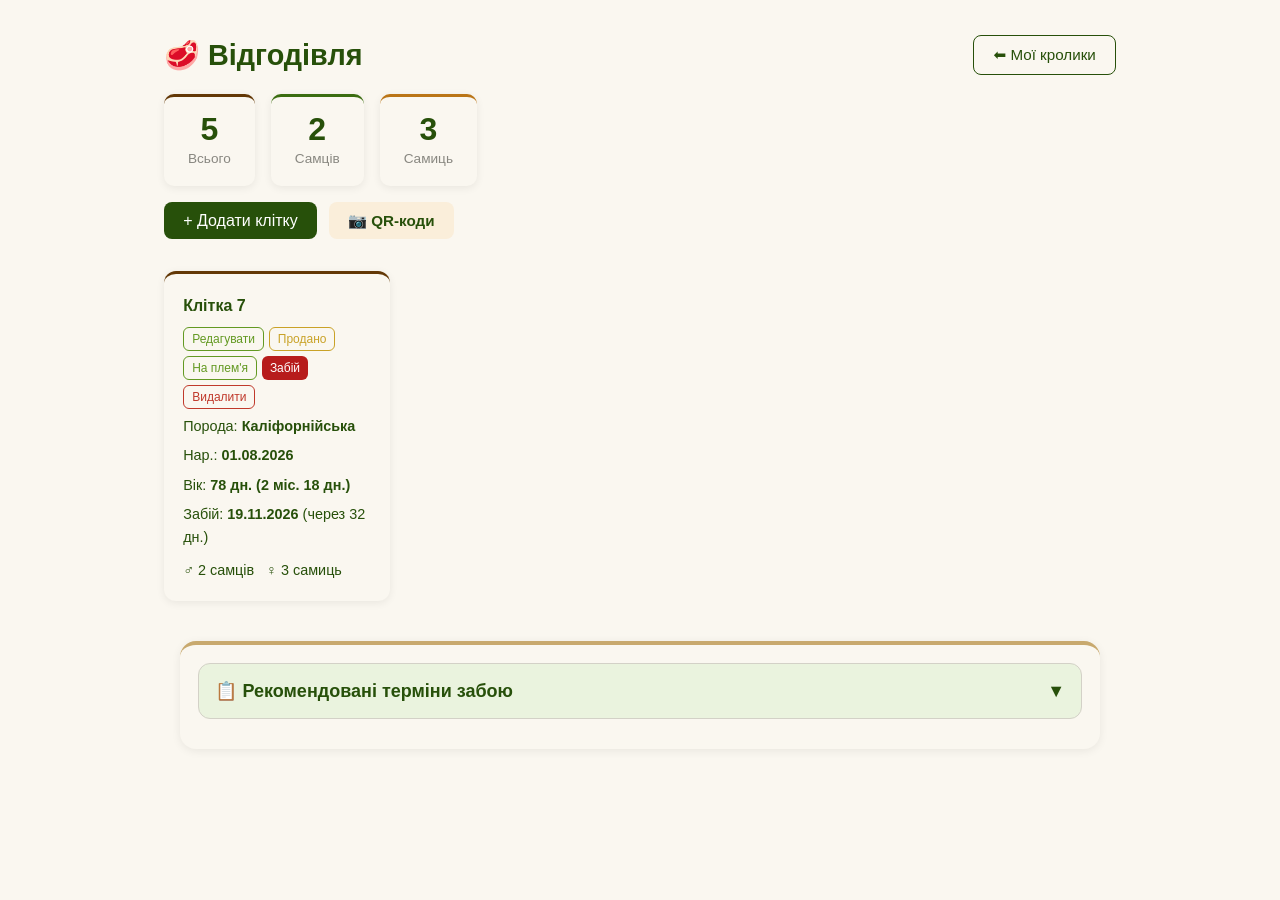
Fattening: помилки Supabase › продаж: помилка запису продажу лишає модалку відкритою, клітку не чіпає
Click the button "Продано" at (302, 339), box [269,327,336,351]
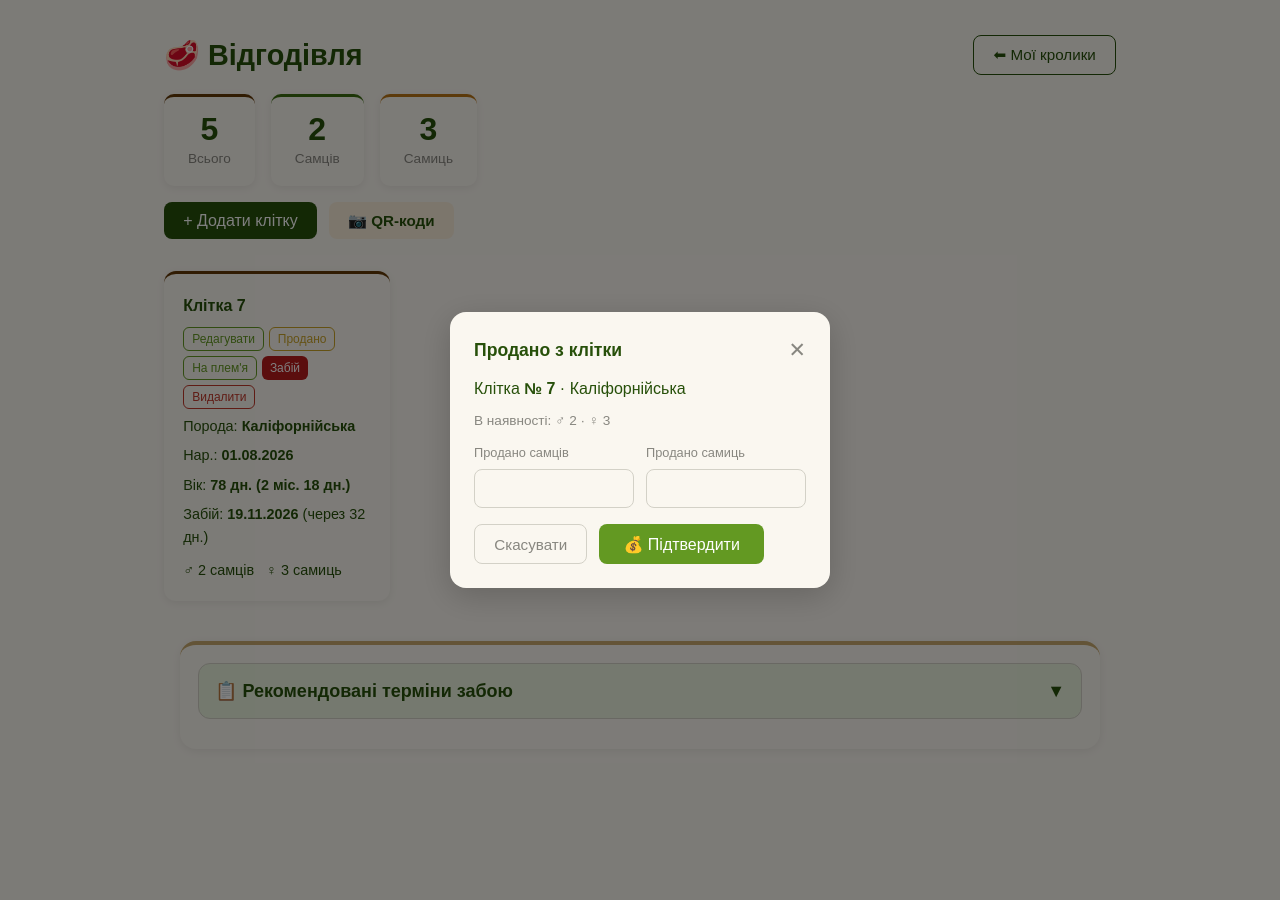
Type "1" into the number field labelled "Продано самців" at (554, 488), box [474,469,634,508]
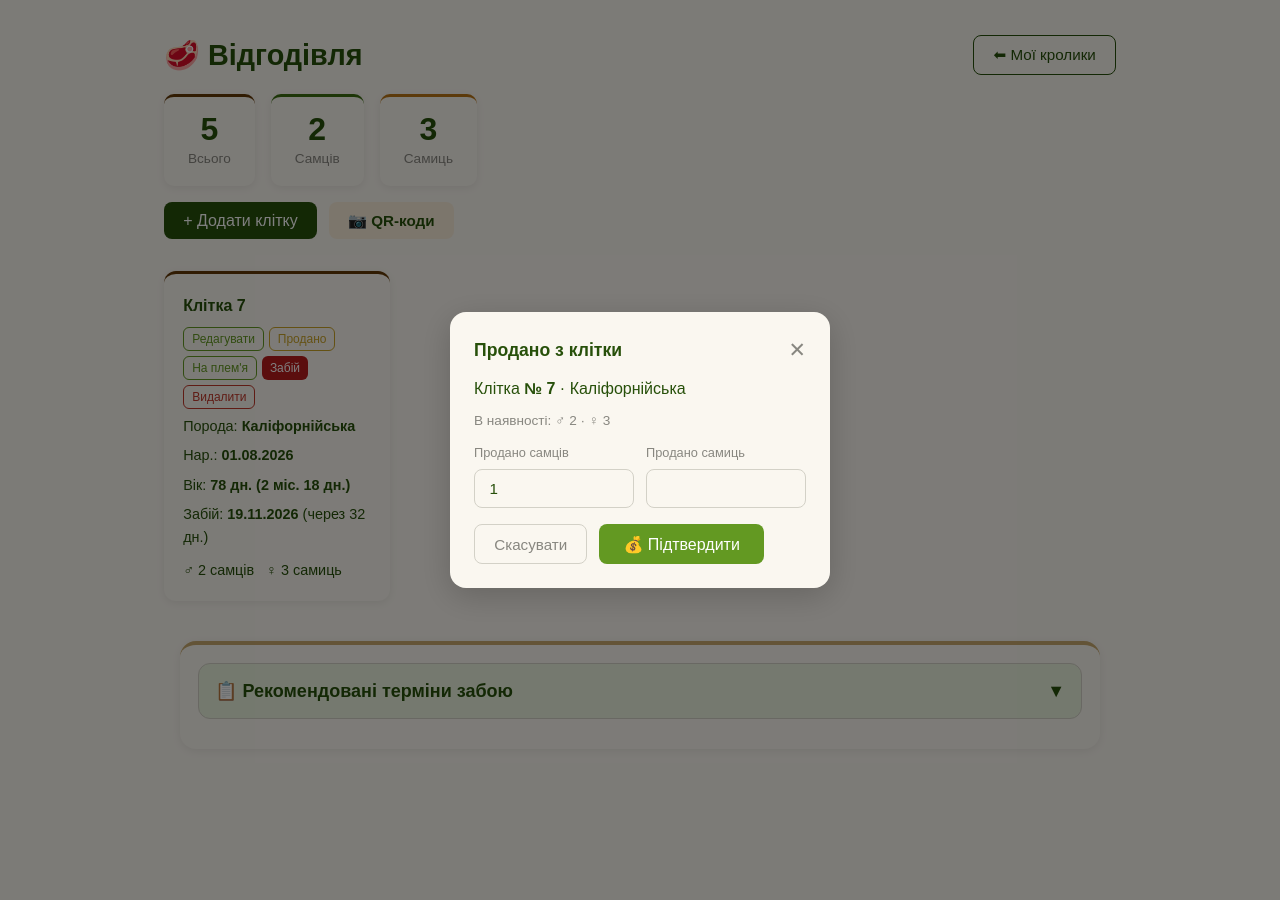
Click the button "💰 Підтвердити" at (682, 544), box [599,524,764,564]
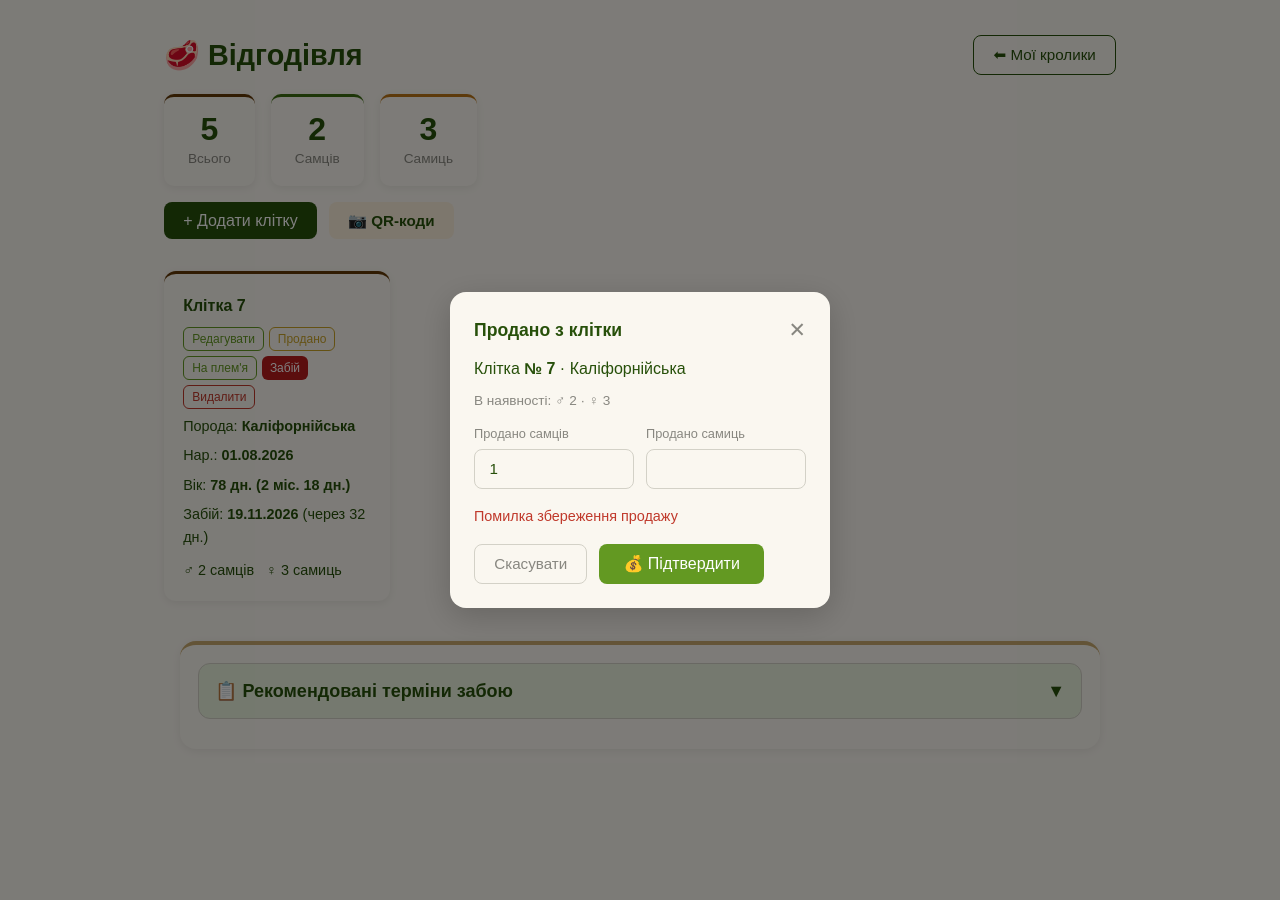
Now the text "Помилка збереження продажу" is shown, box [474,508,678,524]
